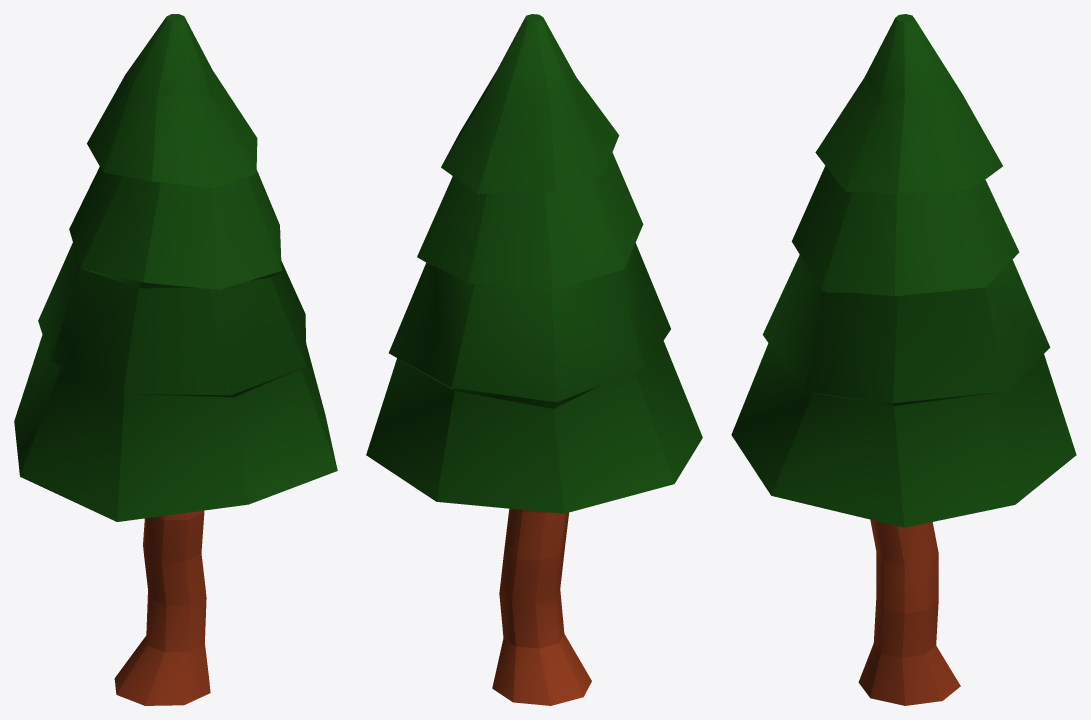
Rendered from Foot_Sapin_v1_003.FBX.
3 views of the same model, side by side, from view 1: azimuth 30°, elevation 25°; view 2: azimuth 150°, elevation 25°; view 3: azimuth 270°, elevation 25° (orthographic).
Parts seen in each view (by area): view 1: Arbre101; view 2: Arbre101; view 3: Arbre101.
Boxes of the visible parts, x1,y1,x2,y2 form: Arbre101: [14, 14, 337, 705]; Arbre101: [366, 14, 702, 705]; Arbre101: [731, 14, 1076, 705].
Bounding box in the file's own units: 102 × 219 × 102.
